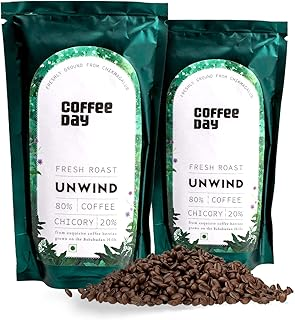Coffee: (1, 3, 153, 299), (163, 26, 285, 277)
